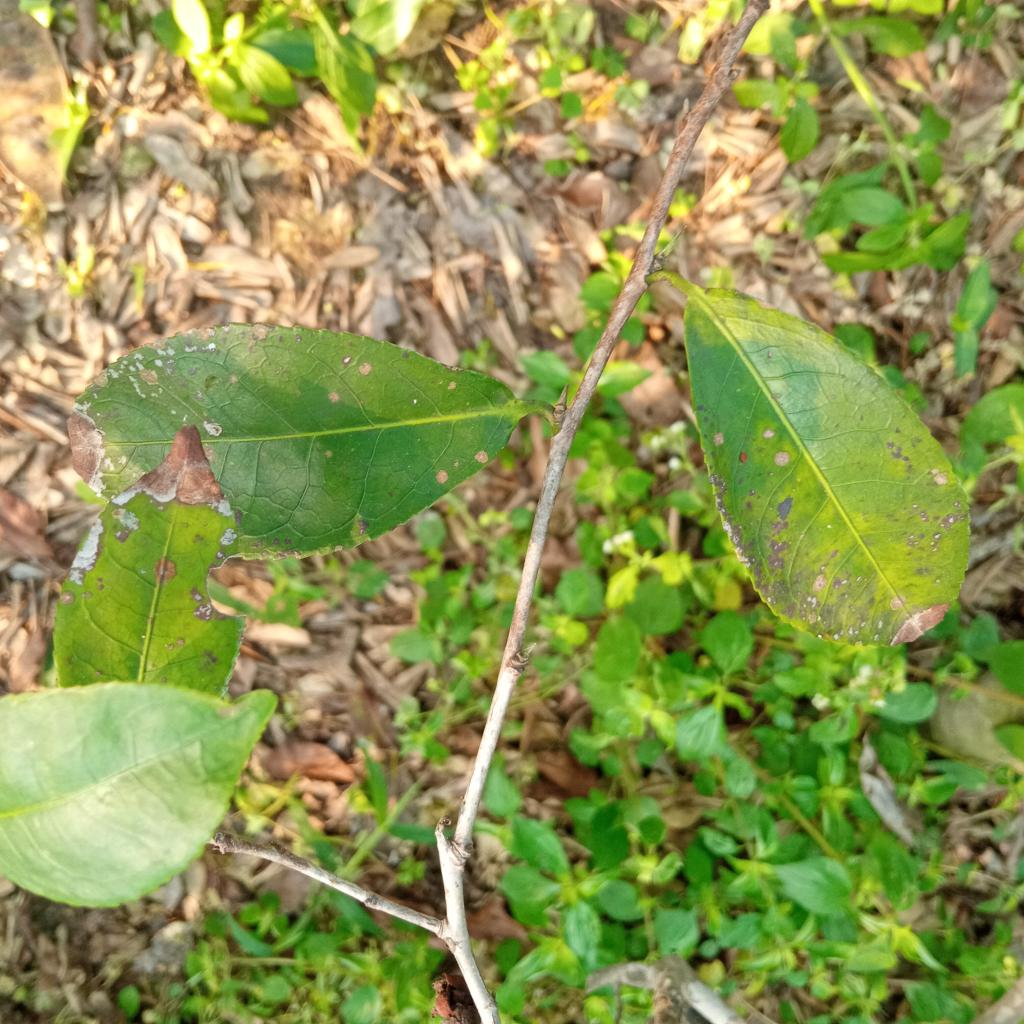Leaf-Hopper: (590, 210, 1024, 709), (79, 318, 519, 548), (48, 427, 252, 691)
